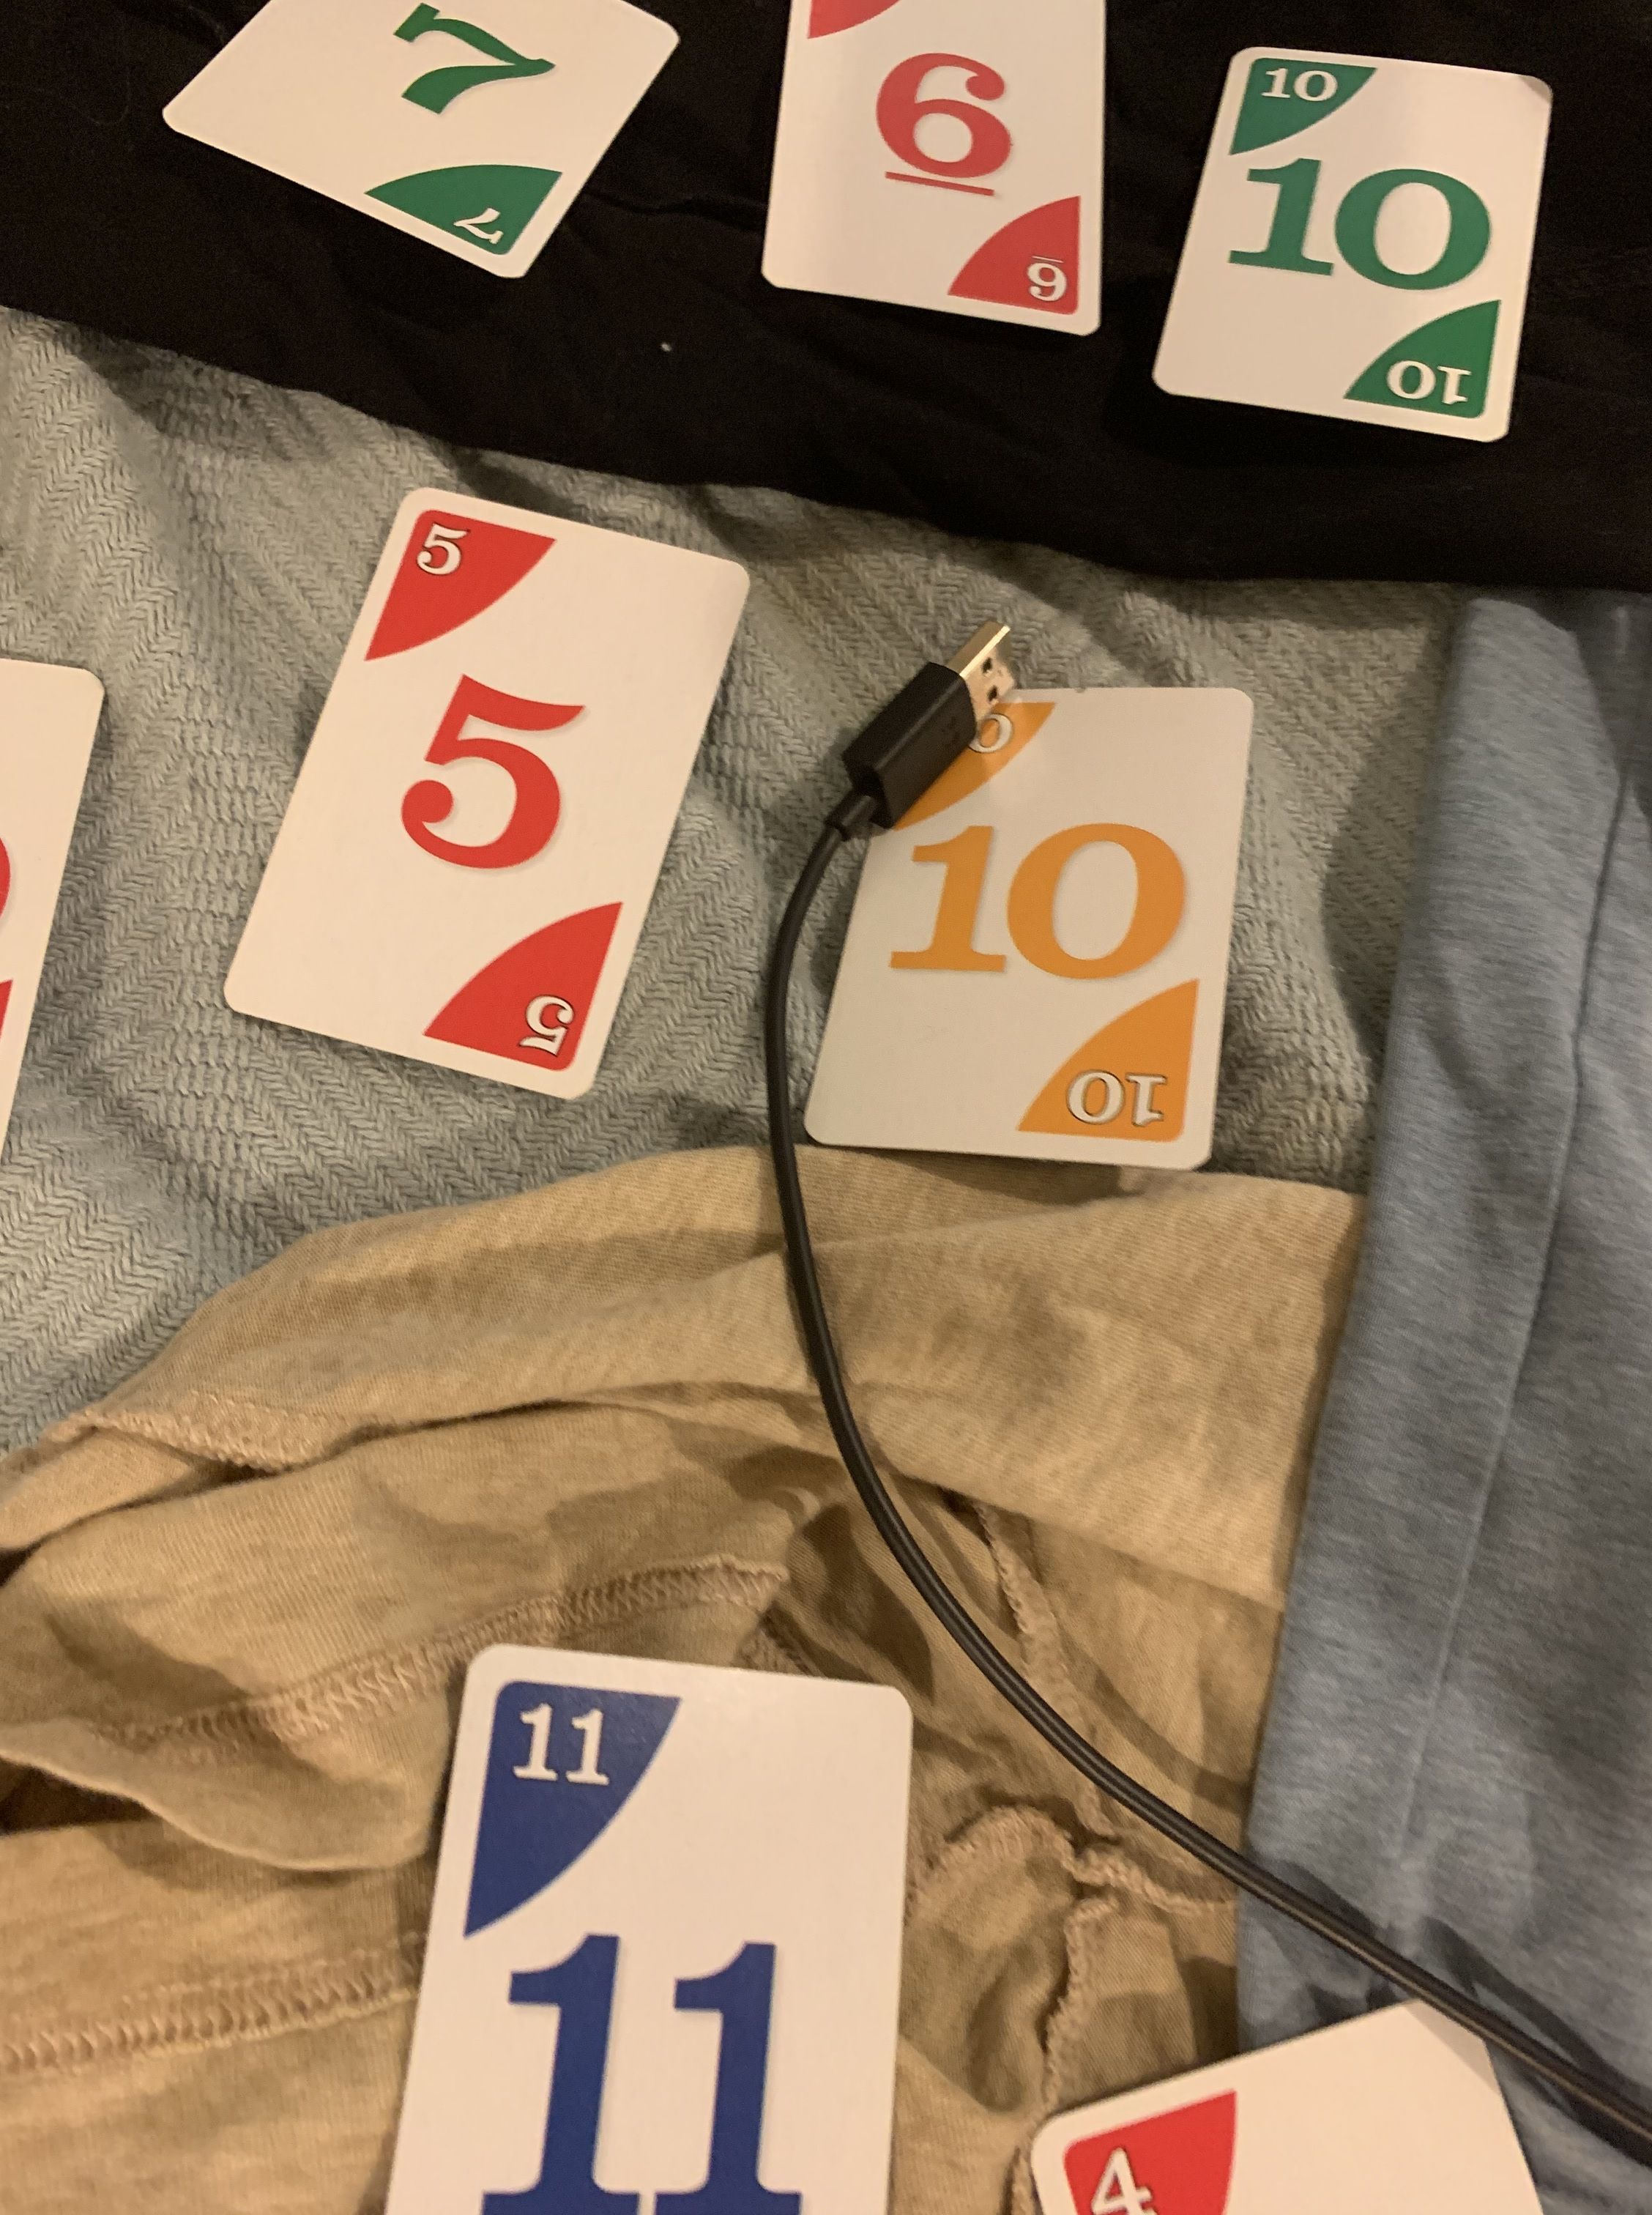eleven: (370, 1640, 925, 2215)
five: (210, 483, 774, 1134)
seven: (160, 0, 670, 286)
six: (770, 0, 1124, 344)
ten: (783, 674, 1267, 1175), (1142, 47, 1550, 457)
